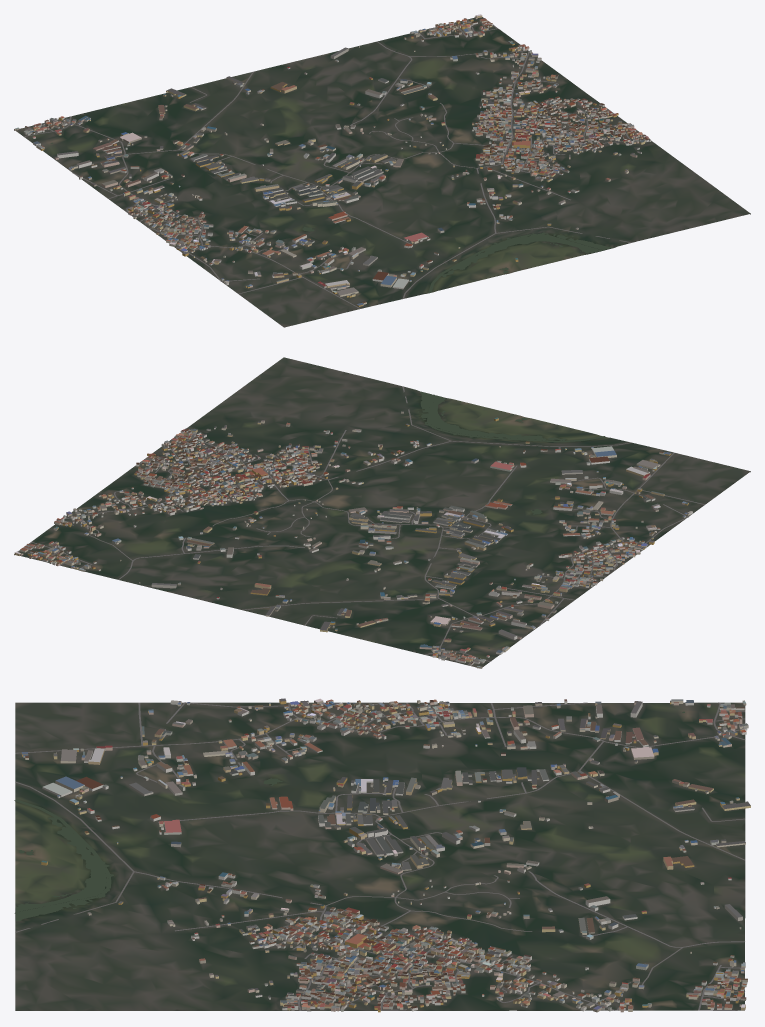
The picture shows the model from 3 angles, top to bottom: view 1: azimuth 30°, elevation 25°; view 2: azimuth 150°, elevation 25°; view 3: azimuth 270°, elevation 25°; orthographic projection. The views are drawn at different scales.
Visible parts, largest first — view 1: ground, buildings, roads, water; view 2: ground, buildings, roads, water; view 3: ground, buildings, roads, water.
Part boxes in pixels (x1=…): ground: x1=16, y1=17, x2=750, y2=327; buildings: x1=14, y1=14, x2=651, y2=306; roads: x1=24, y1=18, x2=643, y2=308; water: x1=50, y1=87, x2=613, y2=292; ground: x1=14, y1=357, x2=750, y2=667; buildings: x1=14, y1=411, x2=692, y2=668; roads: x1=17, y1=386, x2=704, y2=665; water: x1=164, y1=391, x2=605, y2=648; ground: x1=15, y1=702, x2=745, y2=1010; buildings: x1=21, y1=698, x2=750, y2=1012; roads: x1=15, y1=702, x2=745, y2=1011; water: x1=14, y1=711, x2=684, y2=958.
Bounding box in the file's own units: 1415 × 18.38 × 1416.
